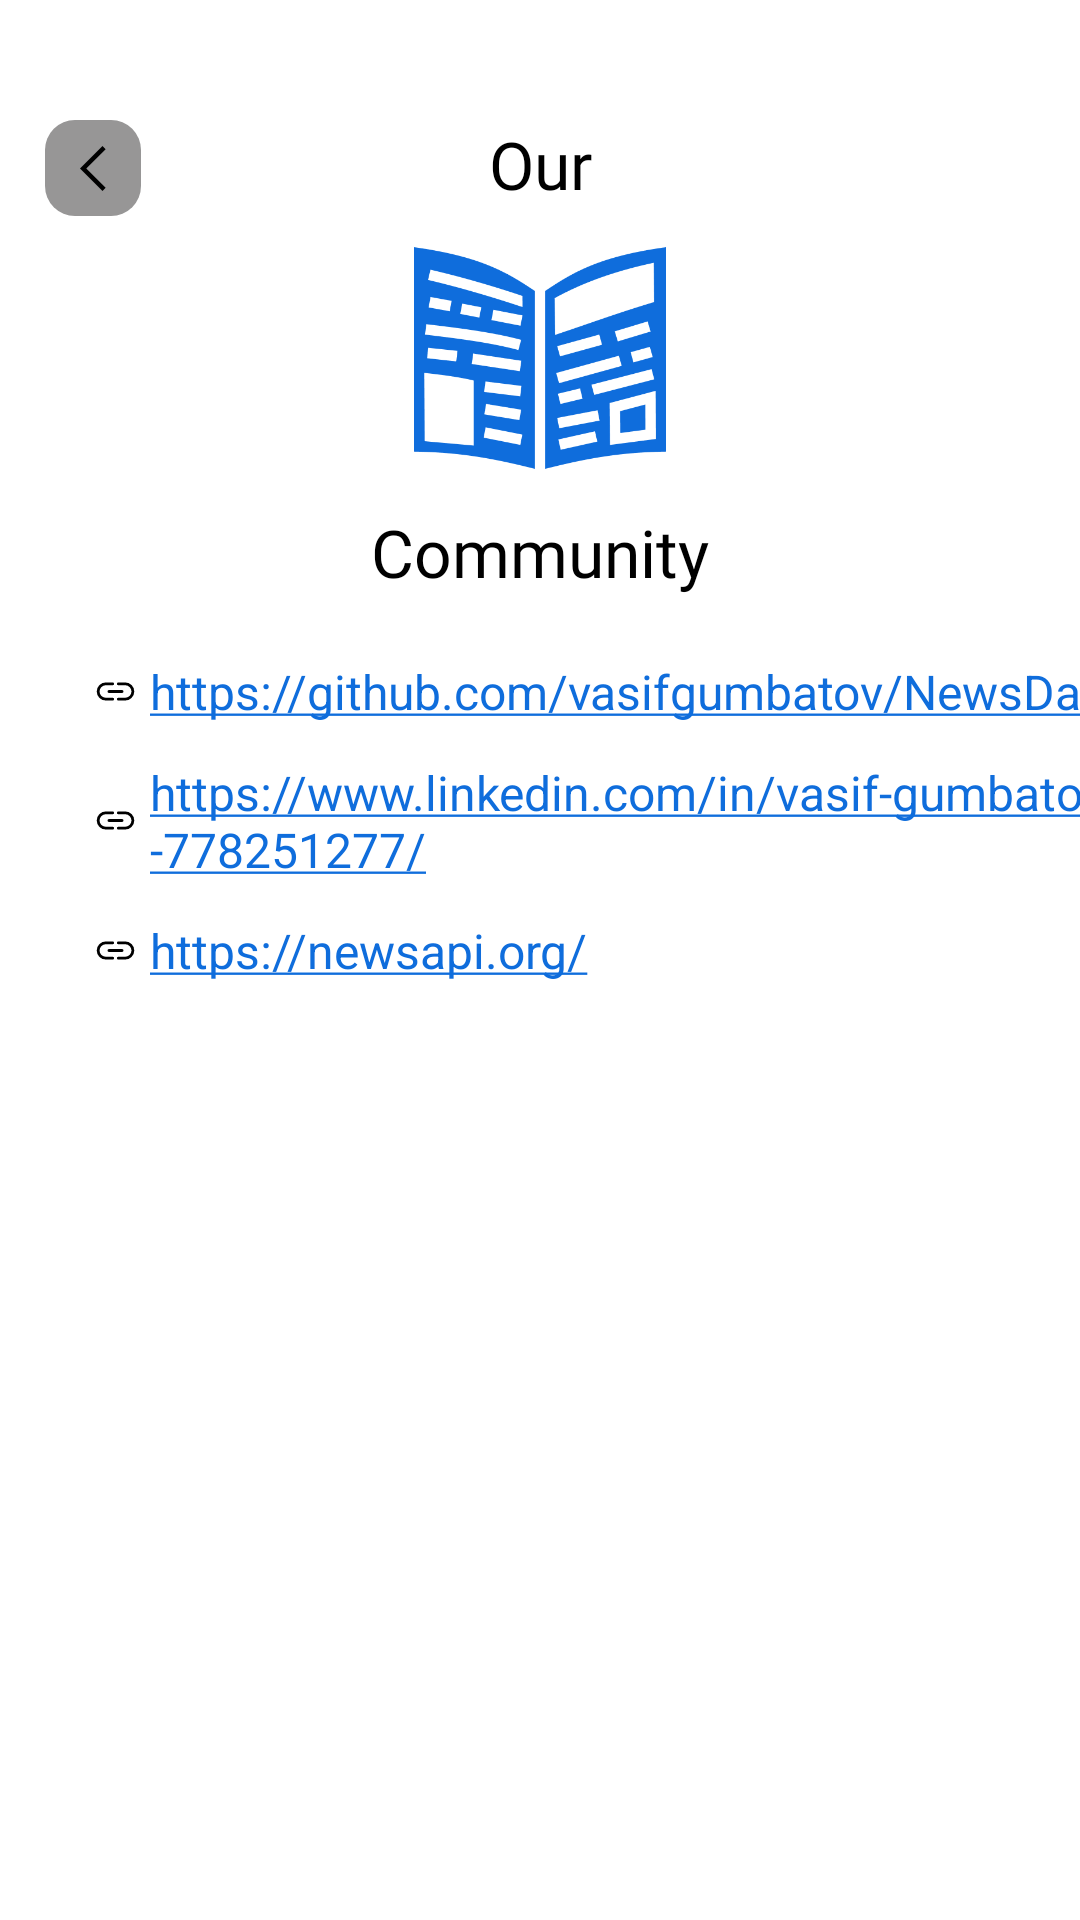

Screen size 1080px x 1920px. Icon name, then its box in pixels as (x1, y1, x2, y2):
back detail: (45, 120, 141, 216)
